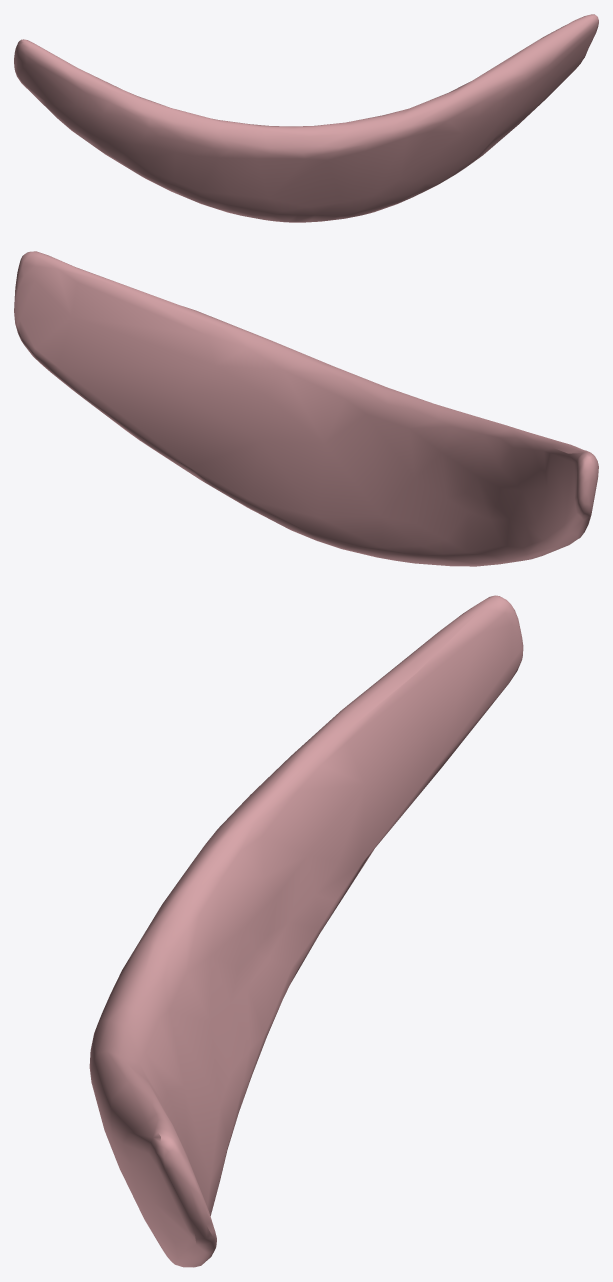
File: fma59089_fj1379.glb
The picture shows the model from 3 angles, top to bottom: view 1: azimuth 30°, elevation 25°; view 2: azimuth 150°, elevation 25°; view 3: azimuth 270°, elevation 25°; orthographic projection. The views are drawn at different scales.
Visible parts, largest first — view 1: FMA59089_FJ1379; view 2: FMA59089_FJ1379; view 3: FMA59089_FJ1379.
Boxes of the visible parts, <box> form: FMA59089_FJ1379: <box>14,14,598,222</box>; FMA59089_FJ1379: <box>14,251,598,566</box>; FMA59089_FJ1379: <box>89,595,523,1267</box>.
Size of the model in its own units: 0.0239 by 0.00838 by 0.00901.
